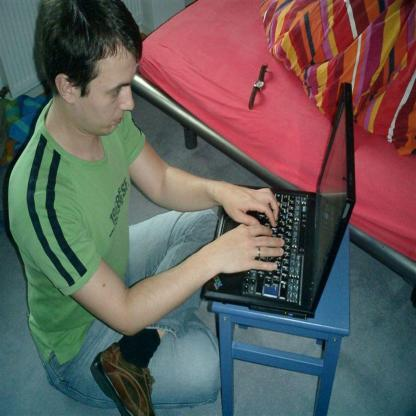board: (201, 82, 356, 318)
